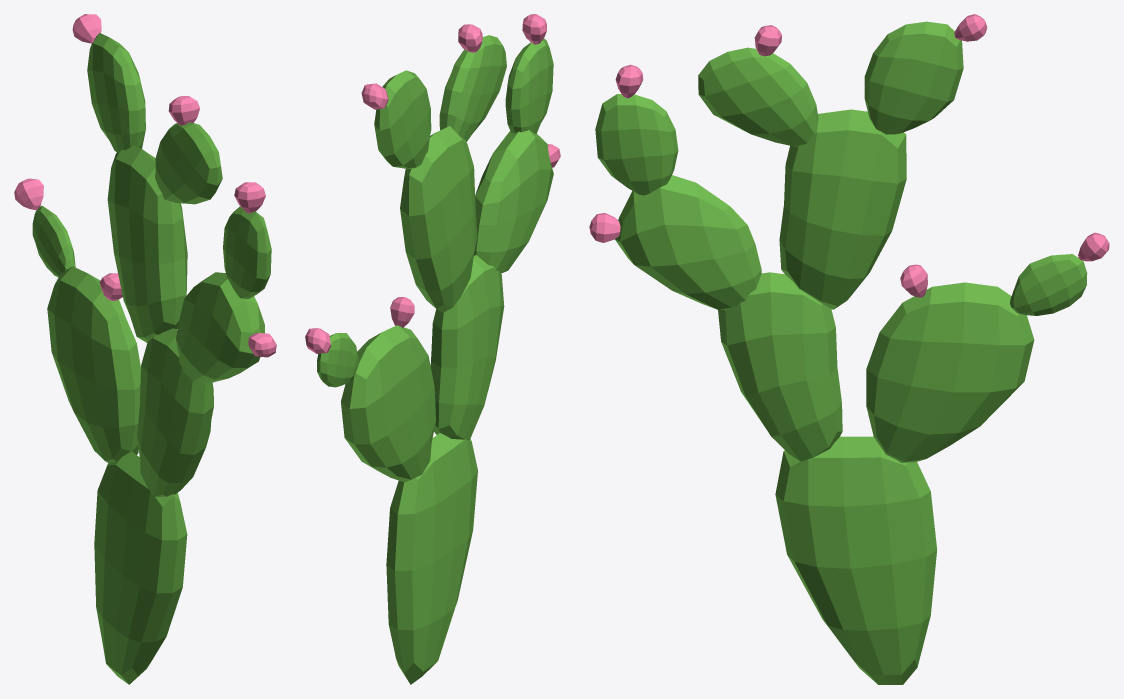
The model's file is nature-cactusflowers-4.glb.
The picture shows the model from 3 angles, left to right: view 1: azimuth 30°, elevation 25°; view 2: azimuth 150°, elevation 25°; view 3: azimuth 270°, elevation 25°; orthographic projection. The views are drawn at different scales.
Visible parts, largest first — view 1: CactusFlowers_4; view 2: CactusFlowers_4; view 3: CactusFlowers_4.
Part boxes in pixels (x1,y1,x2,y2): CactusFlowers_4: (14, 14, 276, 684); CactusFlowers_4: (305, 14, 560, 684); CactusFlowers_4: (589, 14, 1109, 684).
Bounding box in the file's own units: 11 × 138 × 97.2.
